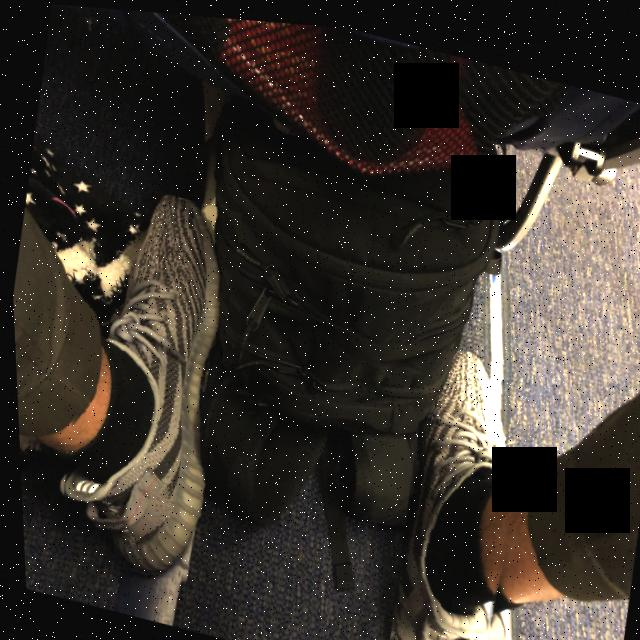shoe: (31, 171, 253, 592), (366, 329, 550, 640)
